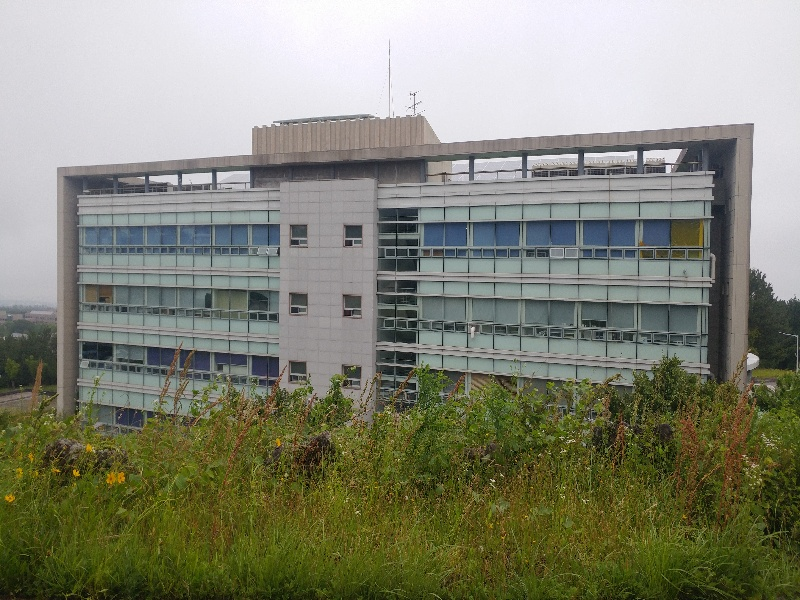College of Marine Science: (62, 110, 751, 392), (97, 121, 734, 370)
